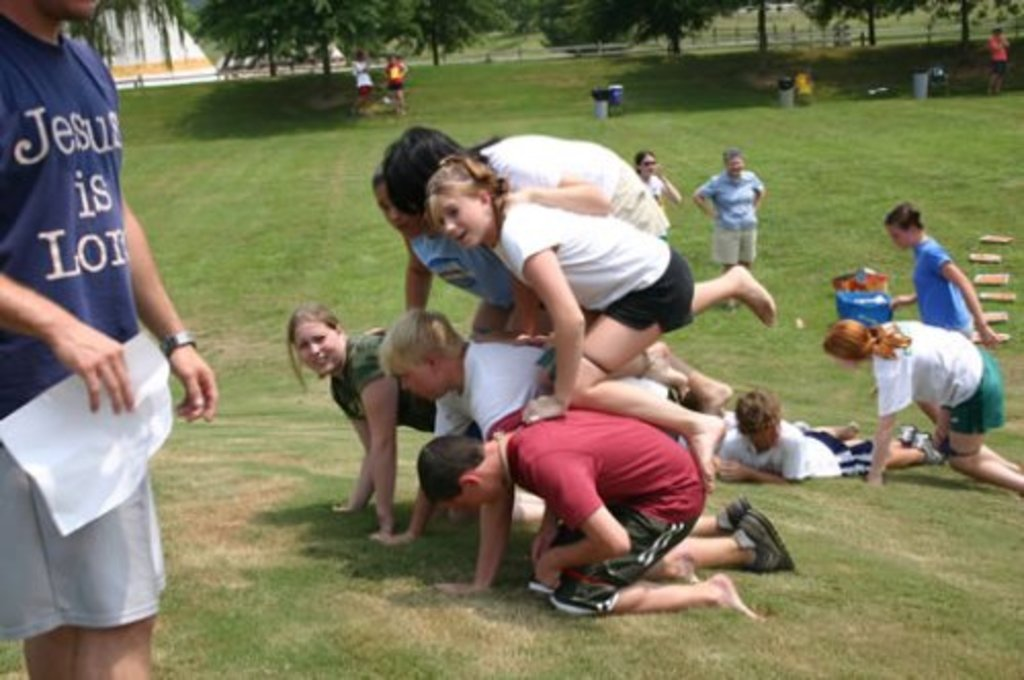Person: (0, 0, 1024, 679)
